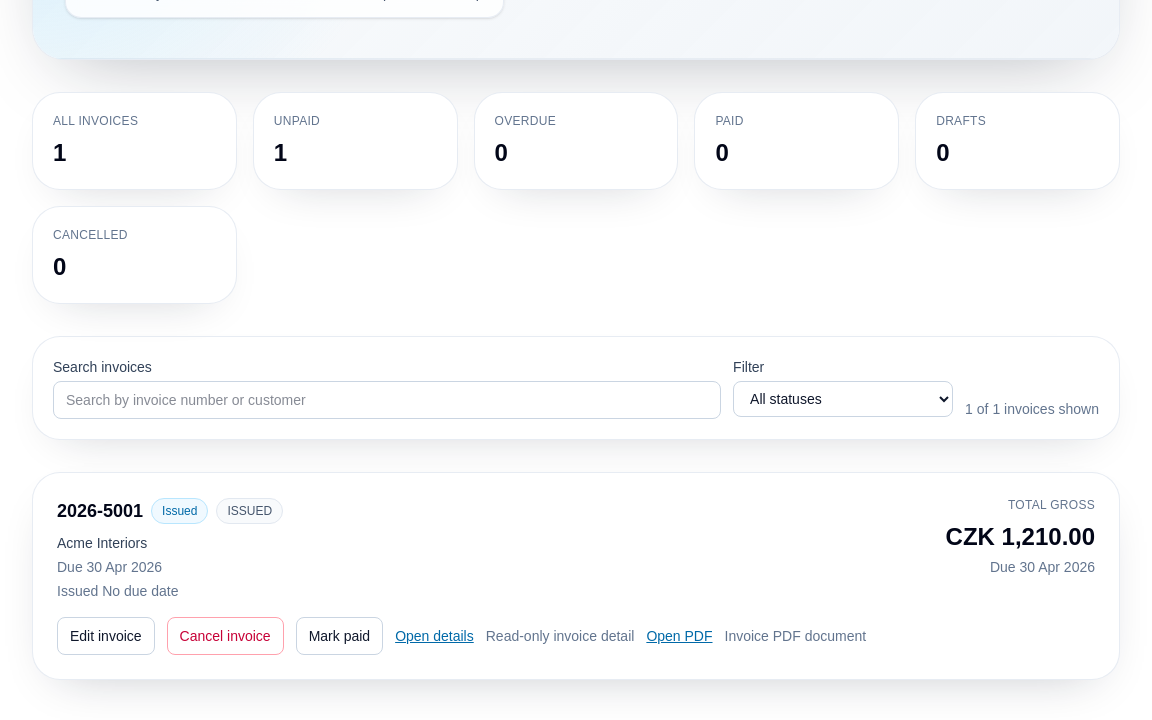
Scenario: invoices workspace v1 › marks an issued invoice as paid locally
(page scrolled)
Click the button "Mark paid" at (339, 636), box [296,617,383,655]
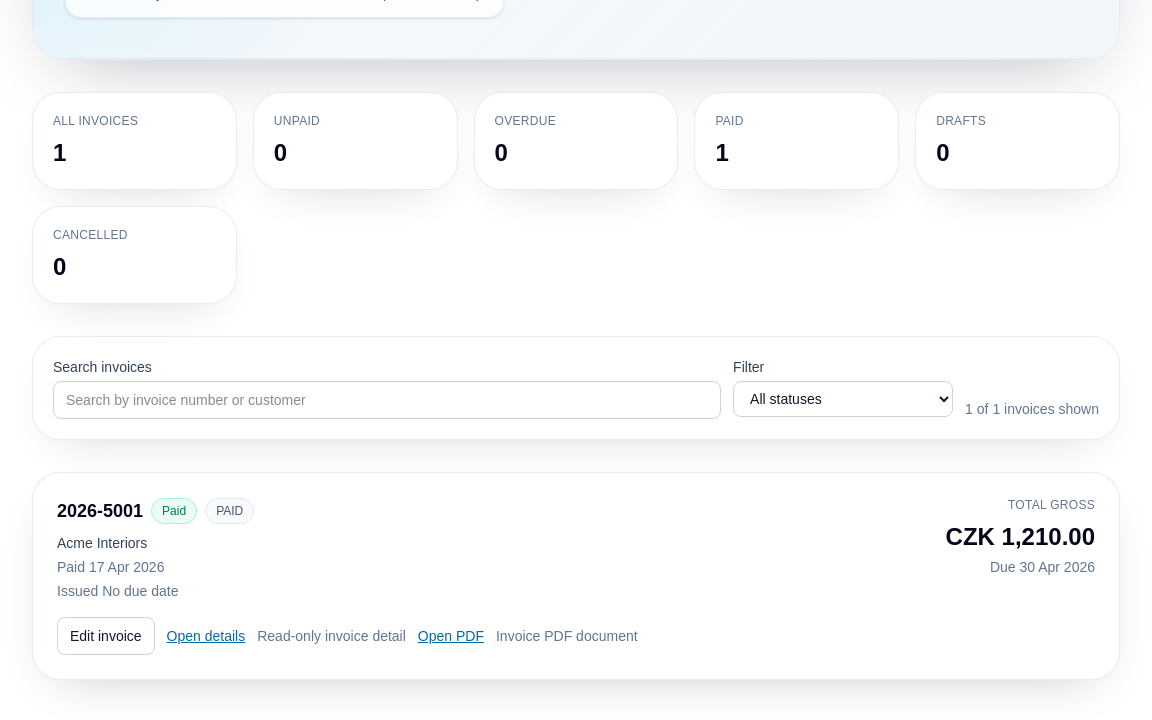
Expected: the button "Mark paid" is gone
Expected: the text "PAID" is shown, [205,498,254,524]
Expected: the text "Paid 17 Apr 2026" is shown, [57,559,164,575]
